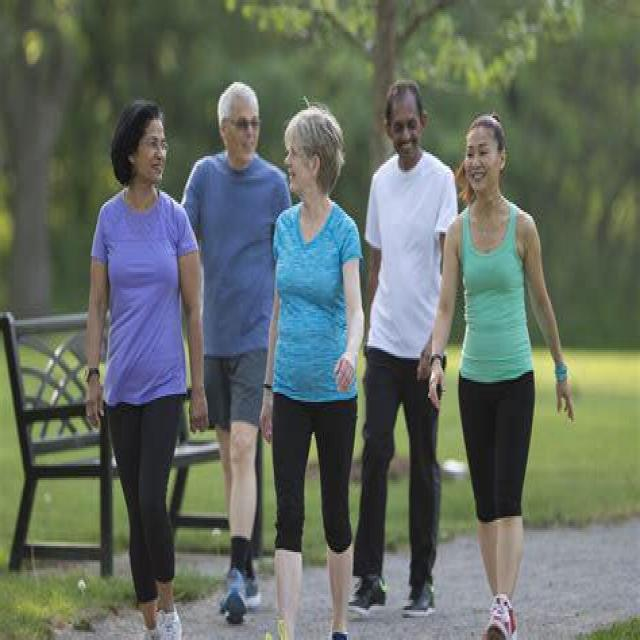face: (284, 106, 342, 196), (115, 104, 169, 186), (463, 110, 508, 196), (218, 80, 260, 164), (384, 80, 426, 162)
